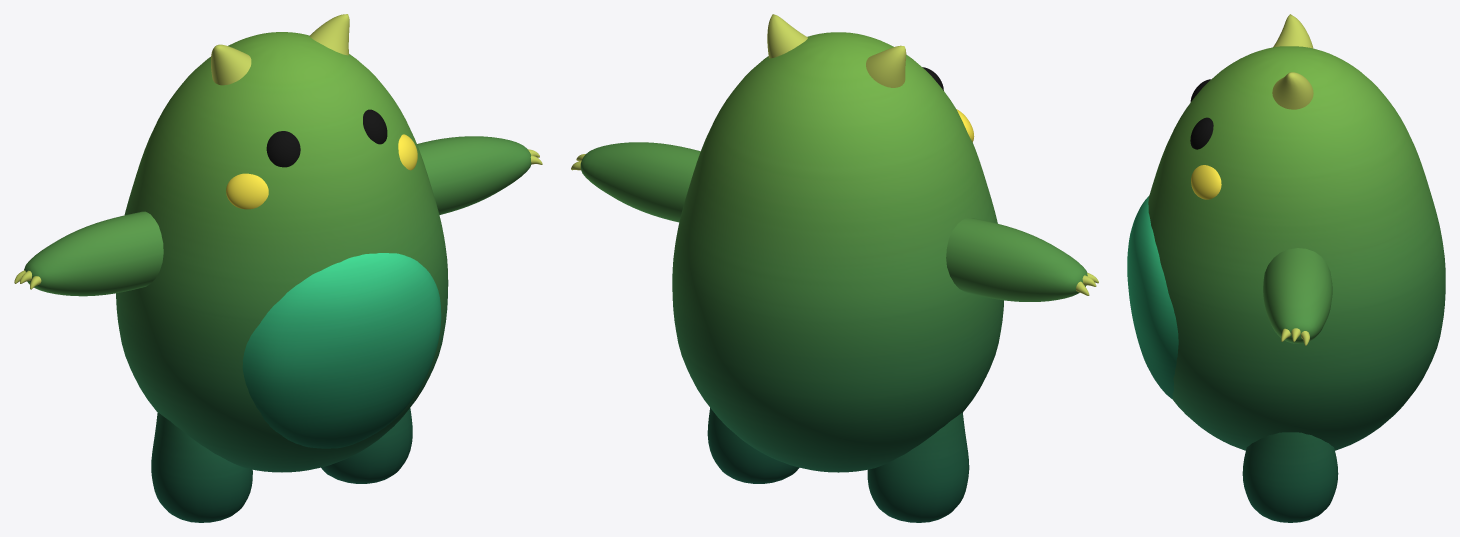
File: ch_public_01.fbx
3 views of the same model, side by side, from view 1: azimuth 30°, elevation 25°; view 2: azimuth 150°, elevation 25°; view 3: azimuth 270°, elevation 25° (orthographic). The views are drawn at different scales.
Parts seen in each view (by area): view 1: ch_1_body, ch_1_belly, ch_1_arm_right, ch_1_leg_right, ch_1_arm_left, ch_1_leg_left, ch_1_horns, ch_1_cheeks, ch_1_eyes; view 2: ch_1_body, ch_1_arm_right, ch_1_leg_right, ch_1_arm_left, ch_1_leg_left, ch_1_horns; view 3: ch_1_body, ch_1_leg_left, ch_1_belly, ch_1_arm_left, ch_1_horns, ch_1_cheeks, ch_1_eyes.
Boxes of the visible parts, x1,y1,x2,y2 form: ch_1_body: (116,32,448,472); ch_1_belly: (242,253,441,448); ch_1_arm_right: (14,211,163,296); ch_1_leg_right: (151,413,252,522); ch_1_arm_left: (417,136,542,214); ch_1_leg_left: (321,408,412,483); ch_1_horns: (211,14,349,85); ch_1_cheeks: (226,134,417,209); ch_1_eyes: (266,109,387,167); ch_1_body: (672,32,1003,472); ch_1_arm_right: (946,217,1098,301); ch_1_leg_right: (867,413,969,522); ch_1_arm_left: (571,142,700,222); ch_1_leg_left: (707,408,799,483); ch_1_horns: (767,14,906,87); ch_1_body: (1148,46,1445,450); ch_1_leg_left: (1242,432,1338,522); ch_1_belly: (1127,196,1178,398); ch_1_arm_left: (1263,248,1332,345); ch_1_horns: (1272,14,1313,109); ch_1_cheeks: (1191,165,1221,199); ch_1_eyes: (1190,79,1213,149).
Bounding box in the file's own units: 15.89 × 13.59 × 9.03.
Materials: 1 (1 with a texture image).
